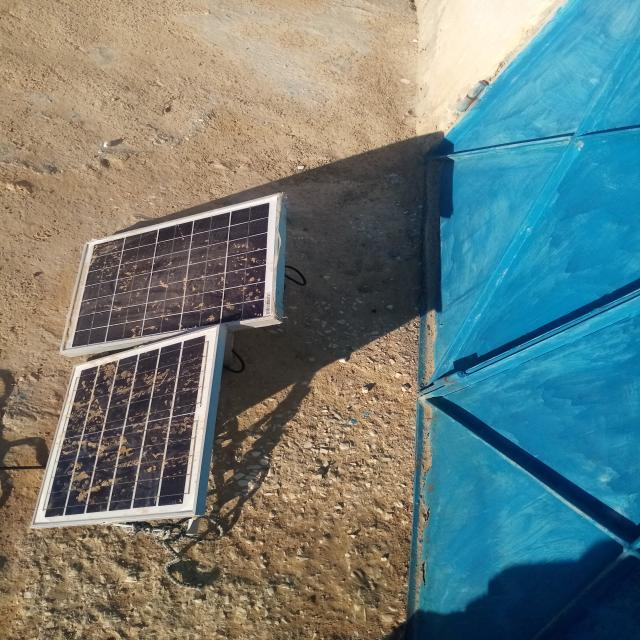faulty: (28, 326, 221, 527), (61, 192, 281, 351)
